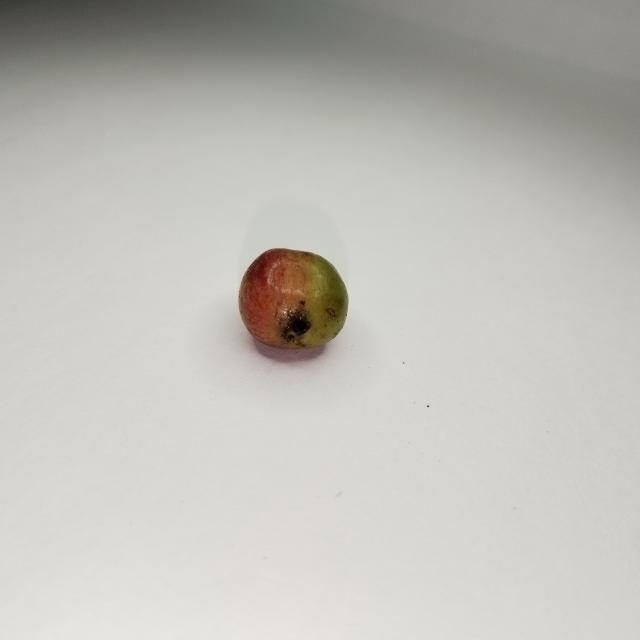Infectado: (239, 248, 348, 349)
